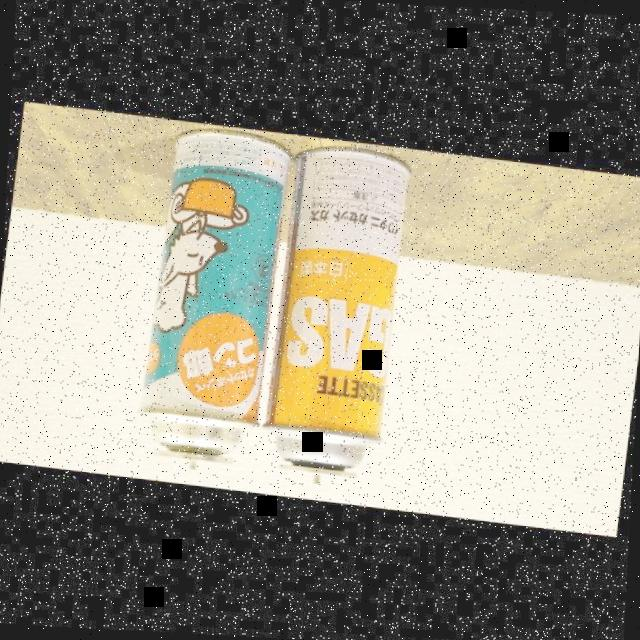chemical_spray_can: (139, 131, 289, 470), (263, 148, 409, 484)
